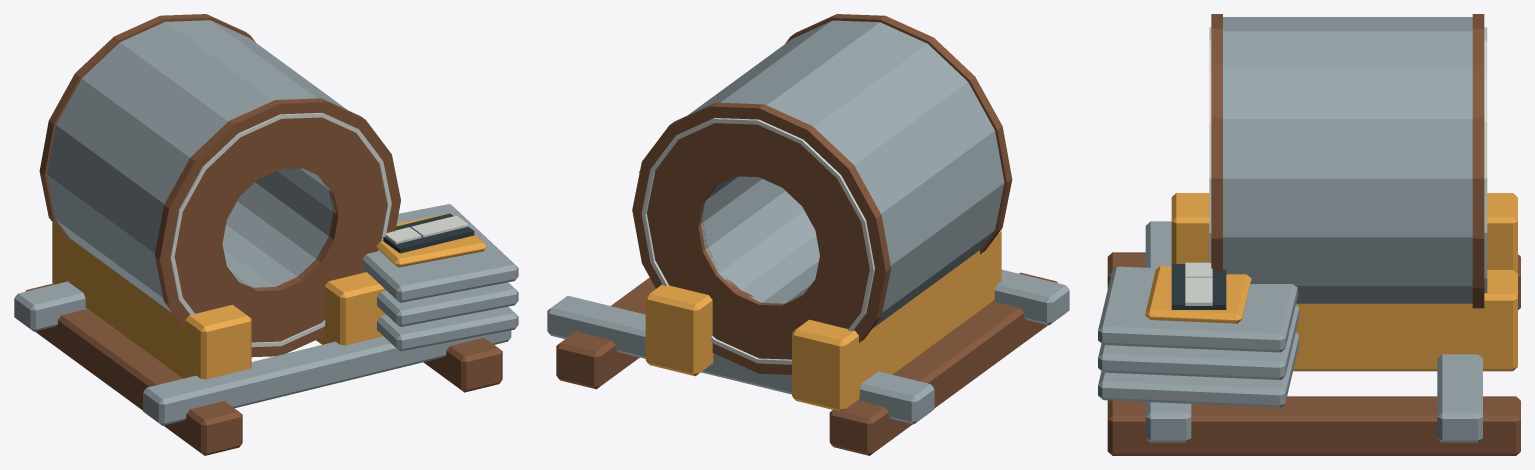
The model's file is materials_2.glb.
3 views of the same model, side by side, from view 1: azimuth 30°, elevation 25°; view 2: azimuth 150°, elevation 25°; view 3: azimuth 270°, elevation 25° (orthographic). The views are drawn at different scales.
Visible parts, largest first — view 1: materials_2; view 2: materials_2; view 3: materials_2.
Part boxes in pixels (x1,y1,x2,y2): materials_2: [14, 14, 518, 455]; materials_2: [547, 14, 1069, 455]; materials_2: [1098, 14, 1520, 455].
Bounding box in the file's own units: 0.76 × 0.6 × 0.6959.
